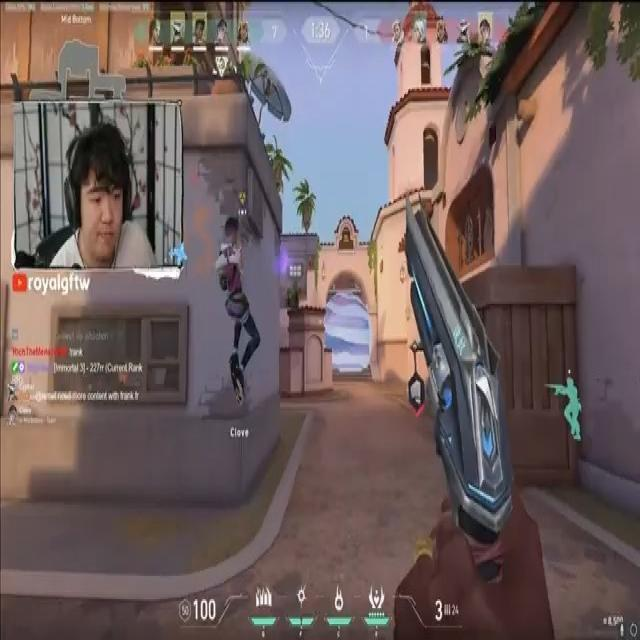ally: (215, 211, 263, 412)
ally behind wall: (541, 360, 587, 444)
smoke: (321, 280, 371, 370)
